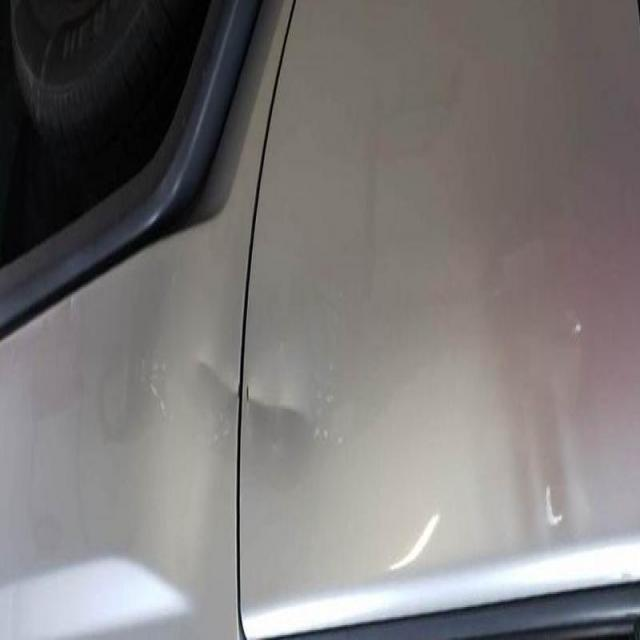dent: (173, 343, 329, 469)
